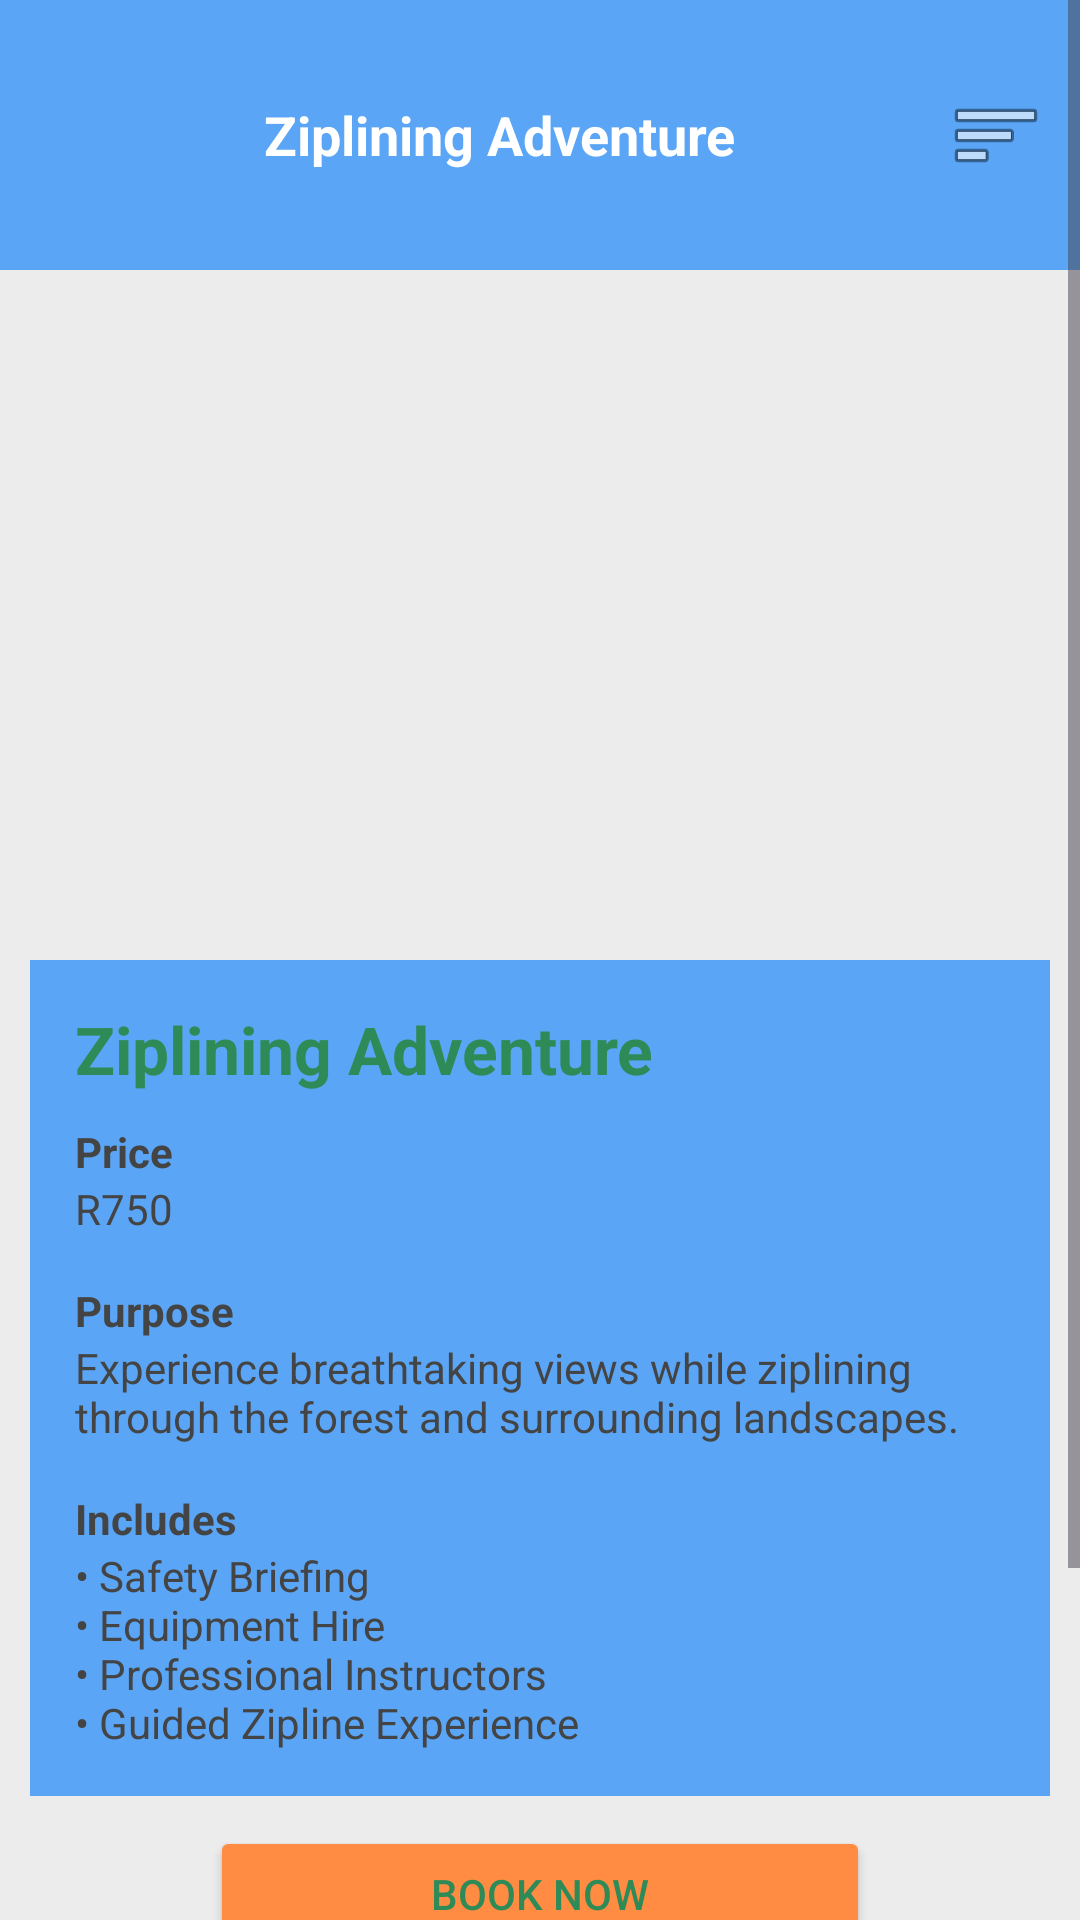

Named icons in this screenshot (1080*1920) and their bounding boxes, bbox(x1, y1, x2, y2):
sort by size: bbox(955, 109, 1037, 162)
